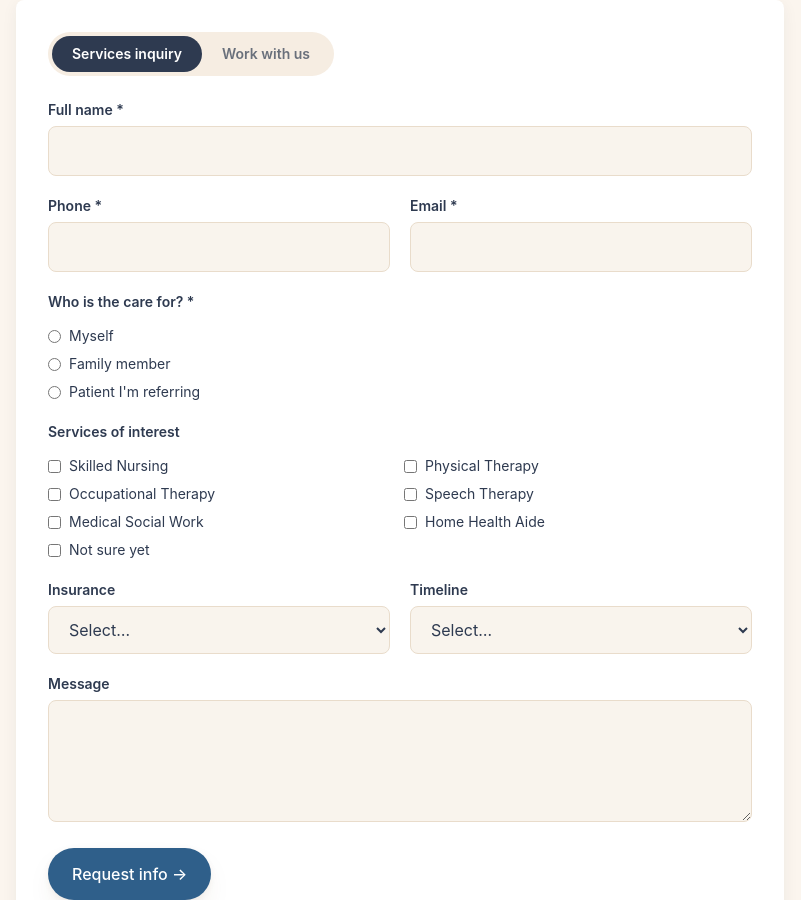
Test: LeadForm › shows validation errors when submitting an empty services form
The width and height of the screenshot is (801, 900).
Click the button "Request info →" at (130, 874), box [48, 848, 211, 899]
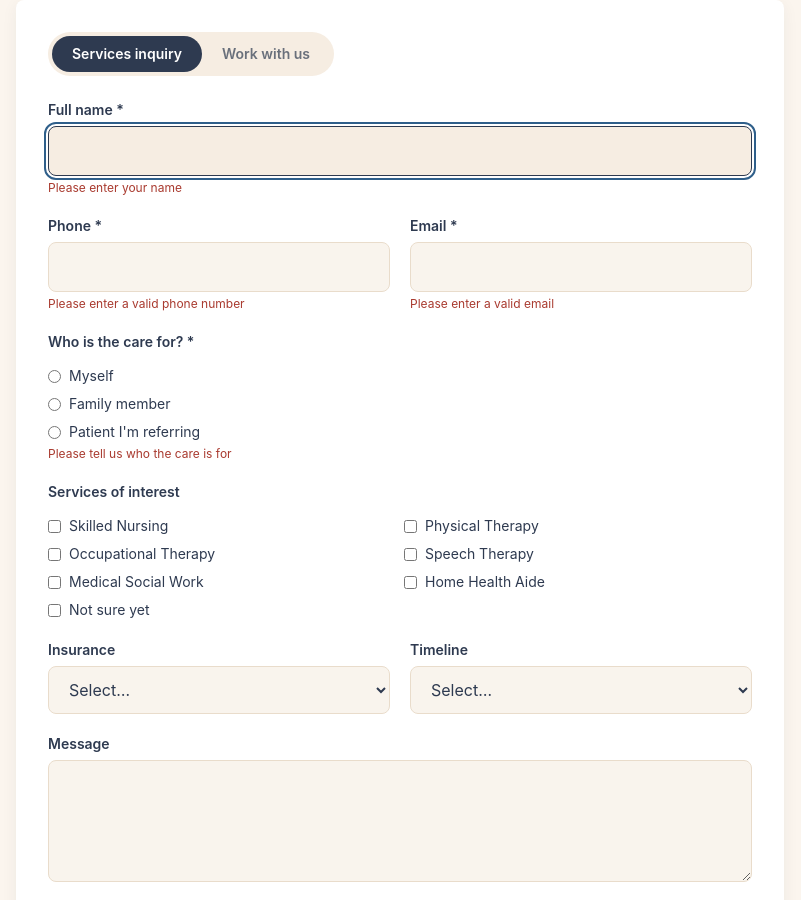
Now the text "Please enter your name" is shown, box [48, 180, 182, 195]
